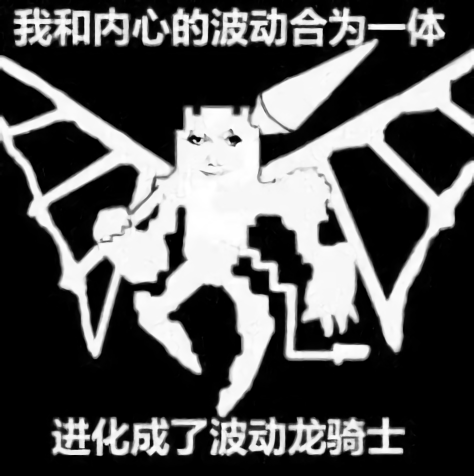dragon: (188, 128, 246, 182)
